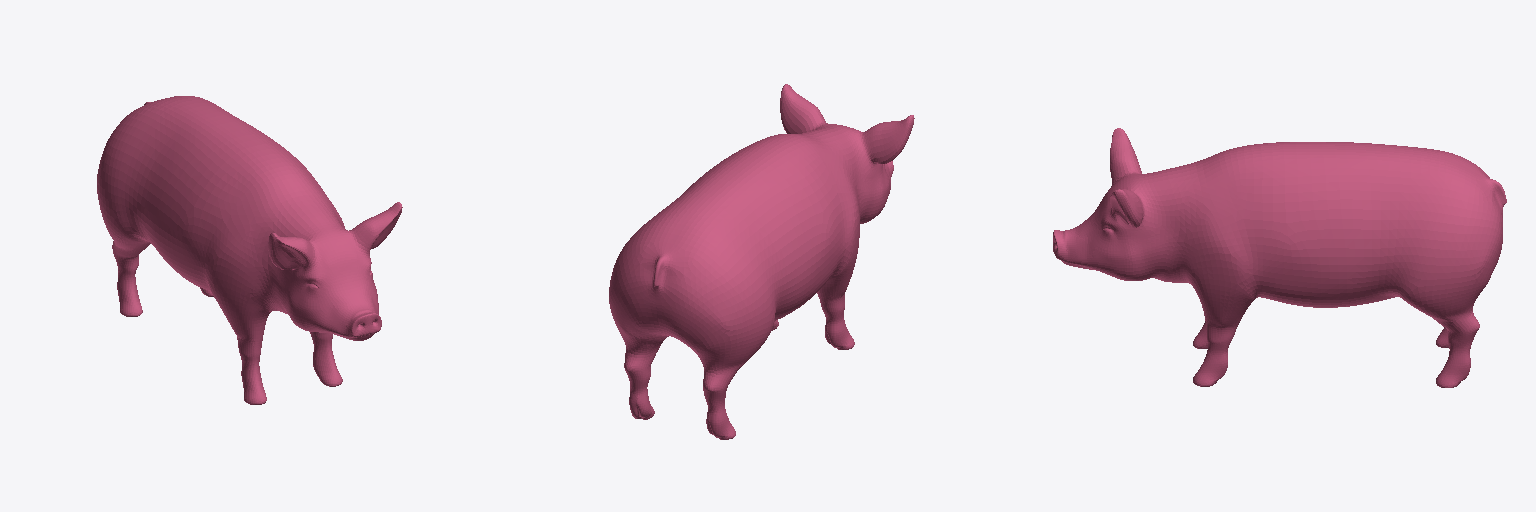
The model's file is pig.obj.
3 views of the same model, side by side, from view 1: azimuth 30°, elevation 25°; view 2: azimuth 150°, elevation 25°; view 3: azimuth 270°, elevation 25° (orthographic).
Visible parts, largest first — view 1: _pig; view 2: _pig; view 3: _pig.
Part boxes in pixels (x1,y1,x2,y2): _pig: (97,96,402,404); _pig: (609,84,914,439); _pig: (1053,128,1506,387).
Size of the model in its own units: 0.6214 by 0.8862 by 1.67.